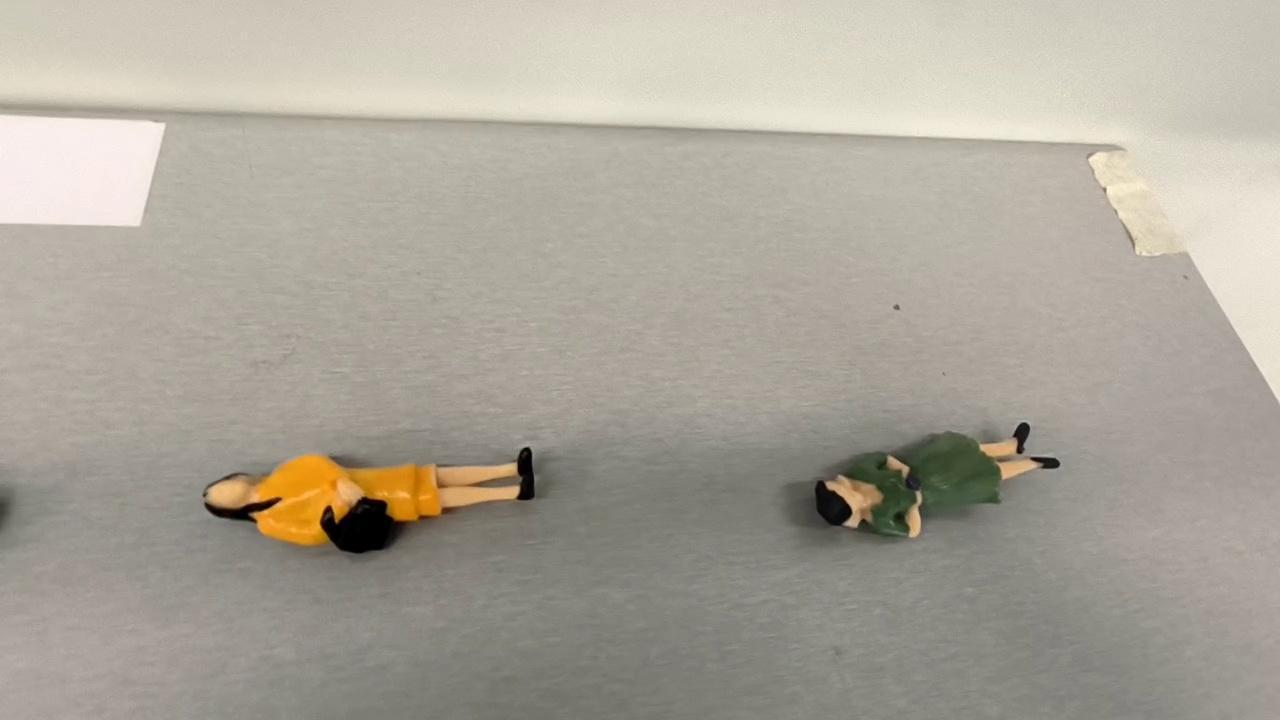human: (203, 446, 539, 552), (815, 424, 1060, 538)
